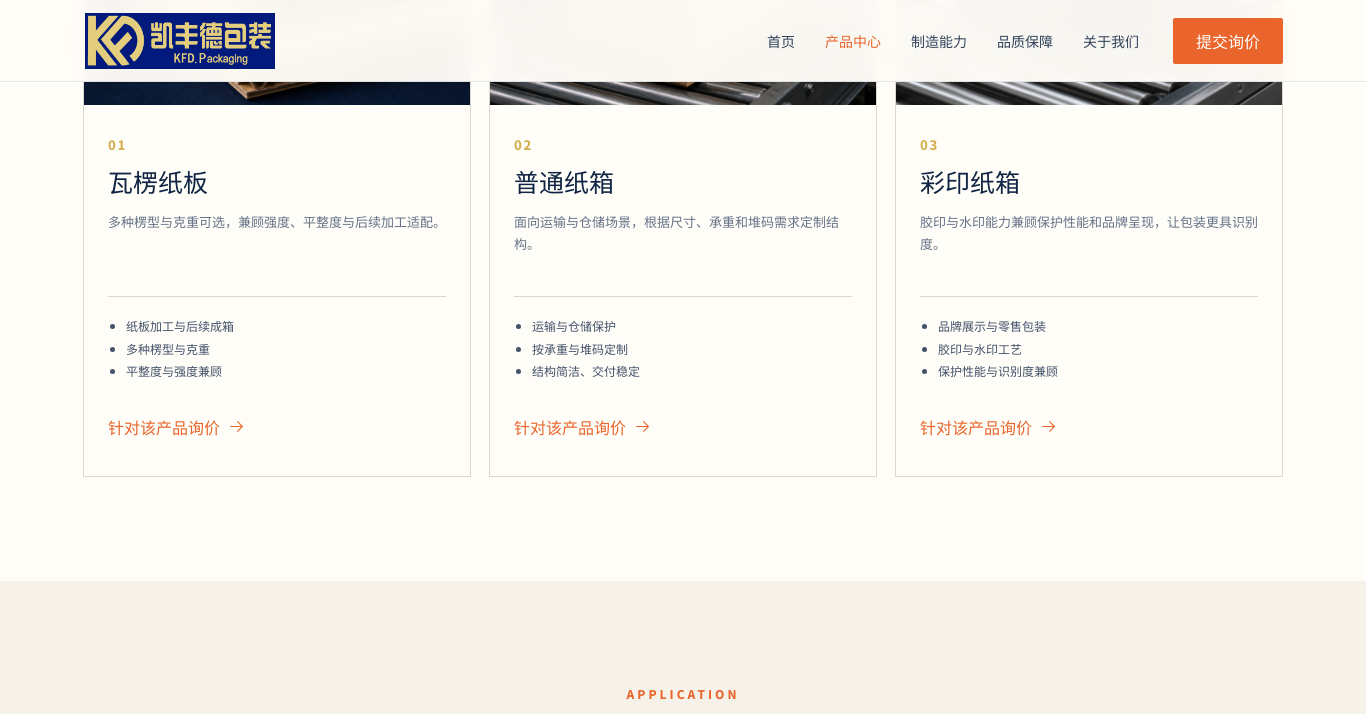
Test: KFD homepage › preselects a product from the product solutions page
This screenshot has width=1366, height=714.
(page scrolled)
Click the button with aria-label "针对彩印纸箱询价" at (988, 427), box x1=920 y1=406 x2=1057 y2=448
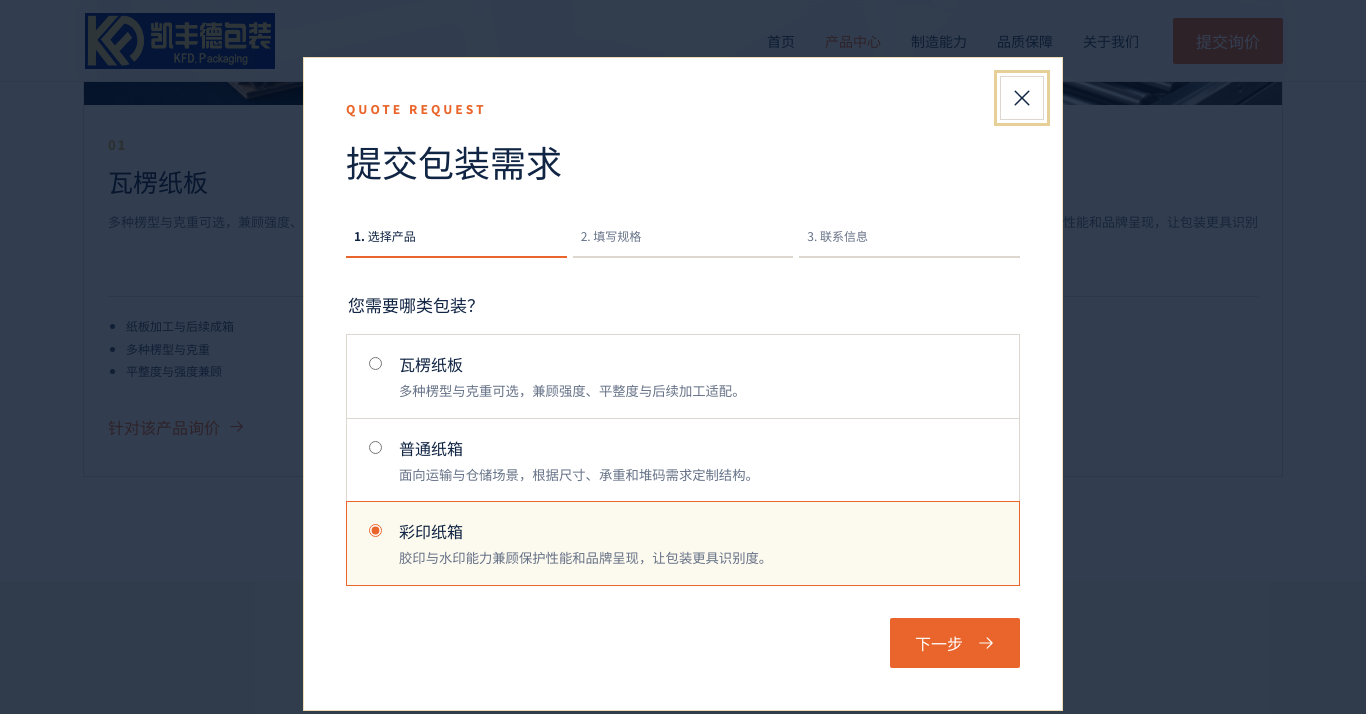
Now the radio button labelled "彩印纸箱" is checked, box x1=369 y1=524 x2=382 y2=538
